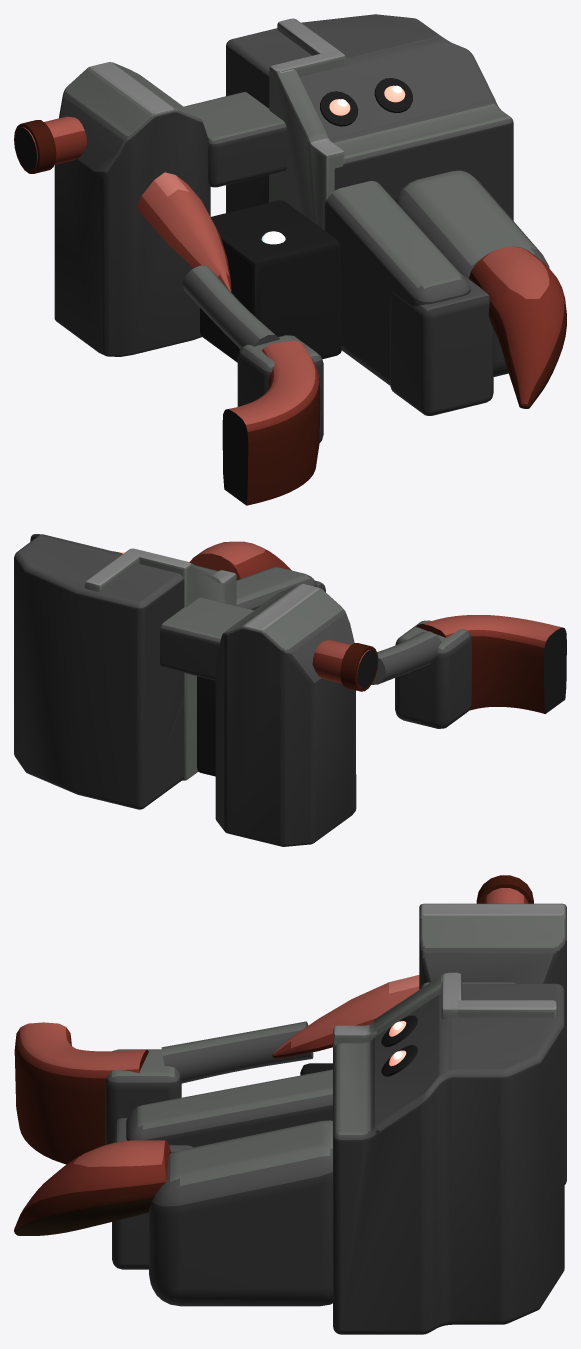
Rendered from claw_gate_right.glb.
The picture shows the model from 3 angles, top to bottom: view 1: azimuth 30°, elevation 25°; view 2: azimuth 150°, elevation 25°; view 3: azimuth 270°, elevation 25°; orthographic projection. The views are drawn at different scales.
Visible parts, largest first — view 1: cap_r.001, tower_r.001, leg_inner_r.001, under_r.001, arc.001, leg_foot_r.001, claw_r.001, leg_outer_r.001, strap_side_r.001, beam_r.001, fang_r.001, strut_r.001 (+7 smaller); view 2: tower_r.001, cap_r.001, arc.001, strut_foot_r.001, beam_r.001, strap_side_r.001, claw_r.001, strut_r.001, leg_inner_r.001, under_r.001, pin.001, strap_spine_r.001 (+2 smaller); view 3: tower_r.001, leg_outer_r.001, cap_r.001, arc.001, leg_inner_r.001, claw_r.001, strut_r.001, fang_r.001, strut_foot_r.001, leg_foot_r.001, strap_side_r.001, strap_spine_r.001 (+3 smaller).
Part boxes in pixels (x1,y1,x2,y2): cap_r.001: (54, 62, 210, 356); tower_r.001: (226, 14, 513, 220); leg_inner_r.001: (325, 181, 470, 385); under_r.001: (200, 200, 341, 362); arc.001: (222, 341, 320, 505); leg_foot_r.001: (390, 273, 493, 415); claw_r.001: (469, 246, 566, 408); leg_outer_r.001: (396, 170, 549, 376); strap_side_r.001: (269, 62, 344, 230); beam_r.001: (184, 92, 287, 187); fang_r.001: (136, 172, 231, 292); strut_r.001: (183, 265, 279, 348); tower_r.001: (14, 534, 184, 809); cap_r.001: (215, 584, 356, 846); arc.001: (416, 615, 566, 713); strut_foot_r.001: (395, 620, 471, 728); beam_r.001: (160, 597, 253, 680); strap_side_r.001: (171, 562, 236, 780); claw_r.001: (189, 541, 291, 579); strut_r.001: (371, 631, 441, 684); leg_inner_r.001: (236, 567, 316, 610); under_r.001: (197, 676, 215, 776); pin.001: (312, 640, 377, 688); strap_spine_r.001: (85, 549, 141, 591); tower_r.001: (333, 983, 564, 1334); leg_outer_r.001: (149, 1120, 332, 1306); cap_r.001: (419, 903, 566, 1184); arc.001: (14, 1022, 148, 1164); leg_inner_r.001: (126, 1069, 332, 1147); claw_r.001: (14, 1140, 170, 1235); strut_r.001: (161, 1021, 313, 1083); fang_r.001: (271, 975, 419, 1058); strut_foot_r.001: (105, 1049, 181, 1144); leg_foot_r.001: (112, 1118, 193, 1269); strap_side_r.001: (333, 972, 462, 1047); strap_spine_r.001: (447, 1000, 557, 1017).
Bounding box in the file's own units: 22.55 × 12.52 × 23.75.
